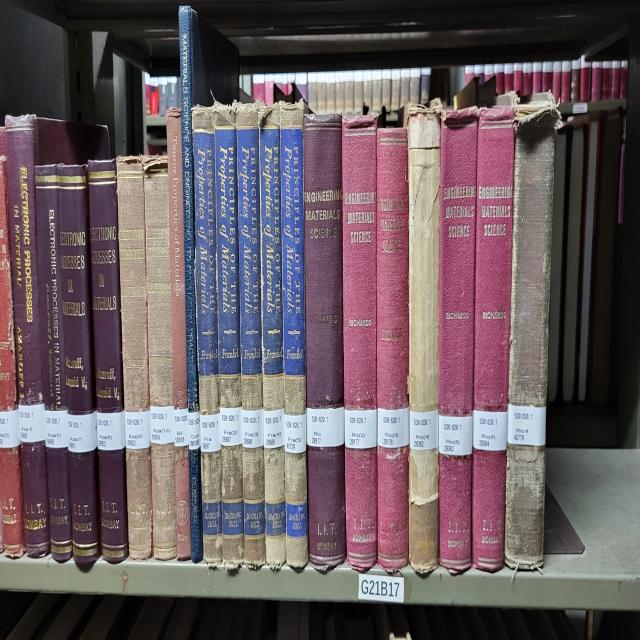Book: (5, 114, 110, 557), (179, 5, 240, 414), (472, 106, 515, 571), (304, 114, 346, 571), (439, 106, 479, 574), (406, 100, 442, 574), (58, 165, 100, 565), (88, 160, 129, 563), (342, 116, 378, 571), (35, 165, 72, 563), (376, 127, 409, 571), (116, 157, 152, 560), (236, 106, 266, 568), (215, 100, 244, 571), (280, 106, 308, 568), (144, 157, 176, 560), (259, 108, 286, 568), (195, 138, 222, 565), (166, 108, 191, 560), (190, 441, 204, 563), (194, 108, 212, 141)
Label: (508, 403, 546, 446), (306, 406, 345, 446), (472, 409, 508, 452), (439, 414, 472, 457), (345, 409, 378, 449), (378, 409, 409, 449), (68, 411, 98, 452), (409, 409, 439, 449), (96, 411, 125, 452), (19, 403, 46, 444), (125, 409, 151, 449), (45, 409, 69, 449), (150, 406, 174, 444), (284, 414, 306, 455), (220, 406, 242, 446), (242, 409, 264, 449), (264, 409, 285, 449), (200, 414, 221, 452), (174, 409, 189, 446), (188, 411, 200, 449)
